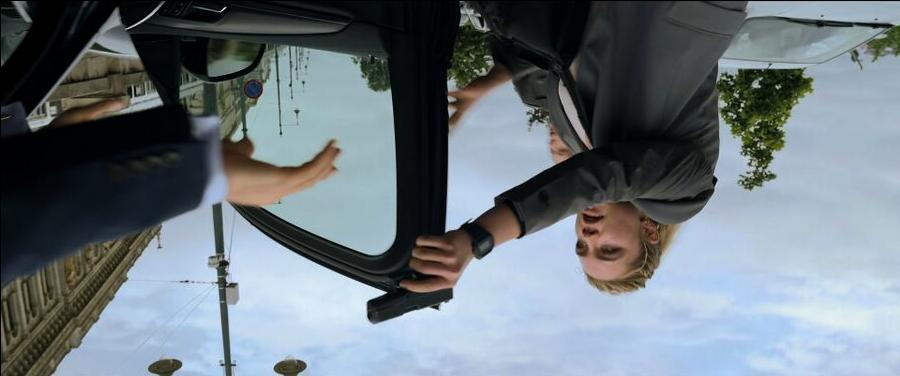gun: (363, 218, 480, 326)
